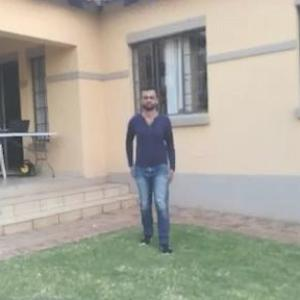follow: (121, 76, 175, 258)
